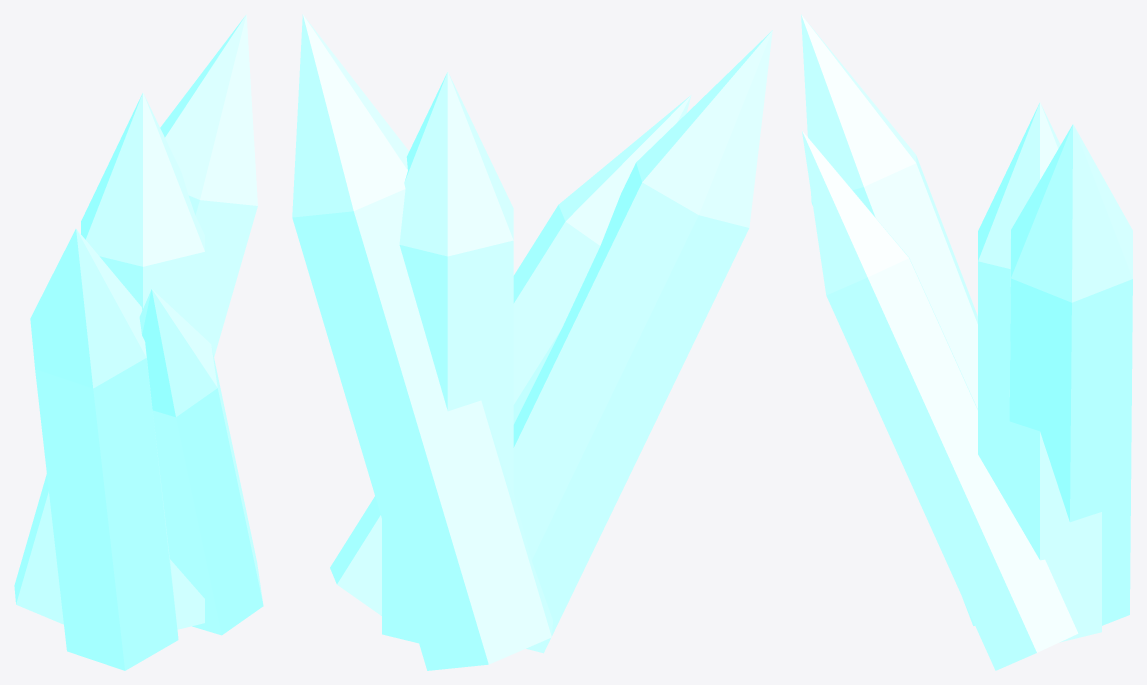
The model's file is crystal_b.glb.
3 views of the same model, side by side, from view 1: azimuth 30°, elevation 25°; view 2: azimuth 150°, elevation 25°; view 3: azimuth 270°, elevation 25° (orthographic). The views are drawn at different scales.
Visible parts, largest first — view 1: crystal_b; view 2: crystal_b; view 3: crystal_b.
Boxes of the visible parts, bbox=[...] form: crystal_b: bbox=[14, 14, 263, 670]; crystal_b: bbox=[292, 14, 772, 670]; crystal_b: bbox=[801, 14, 1132, 670].
Size of the model in its own units: 0.8756 by 1.49 by 0.7744.
